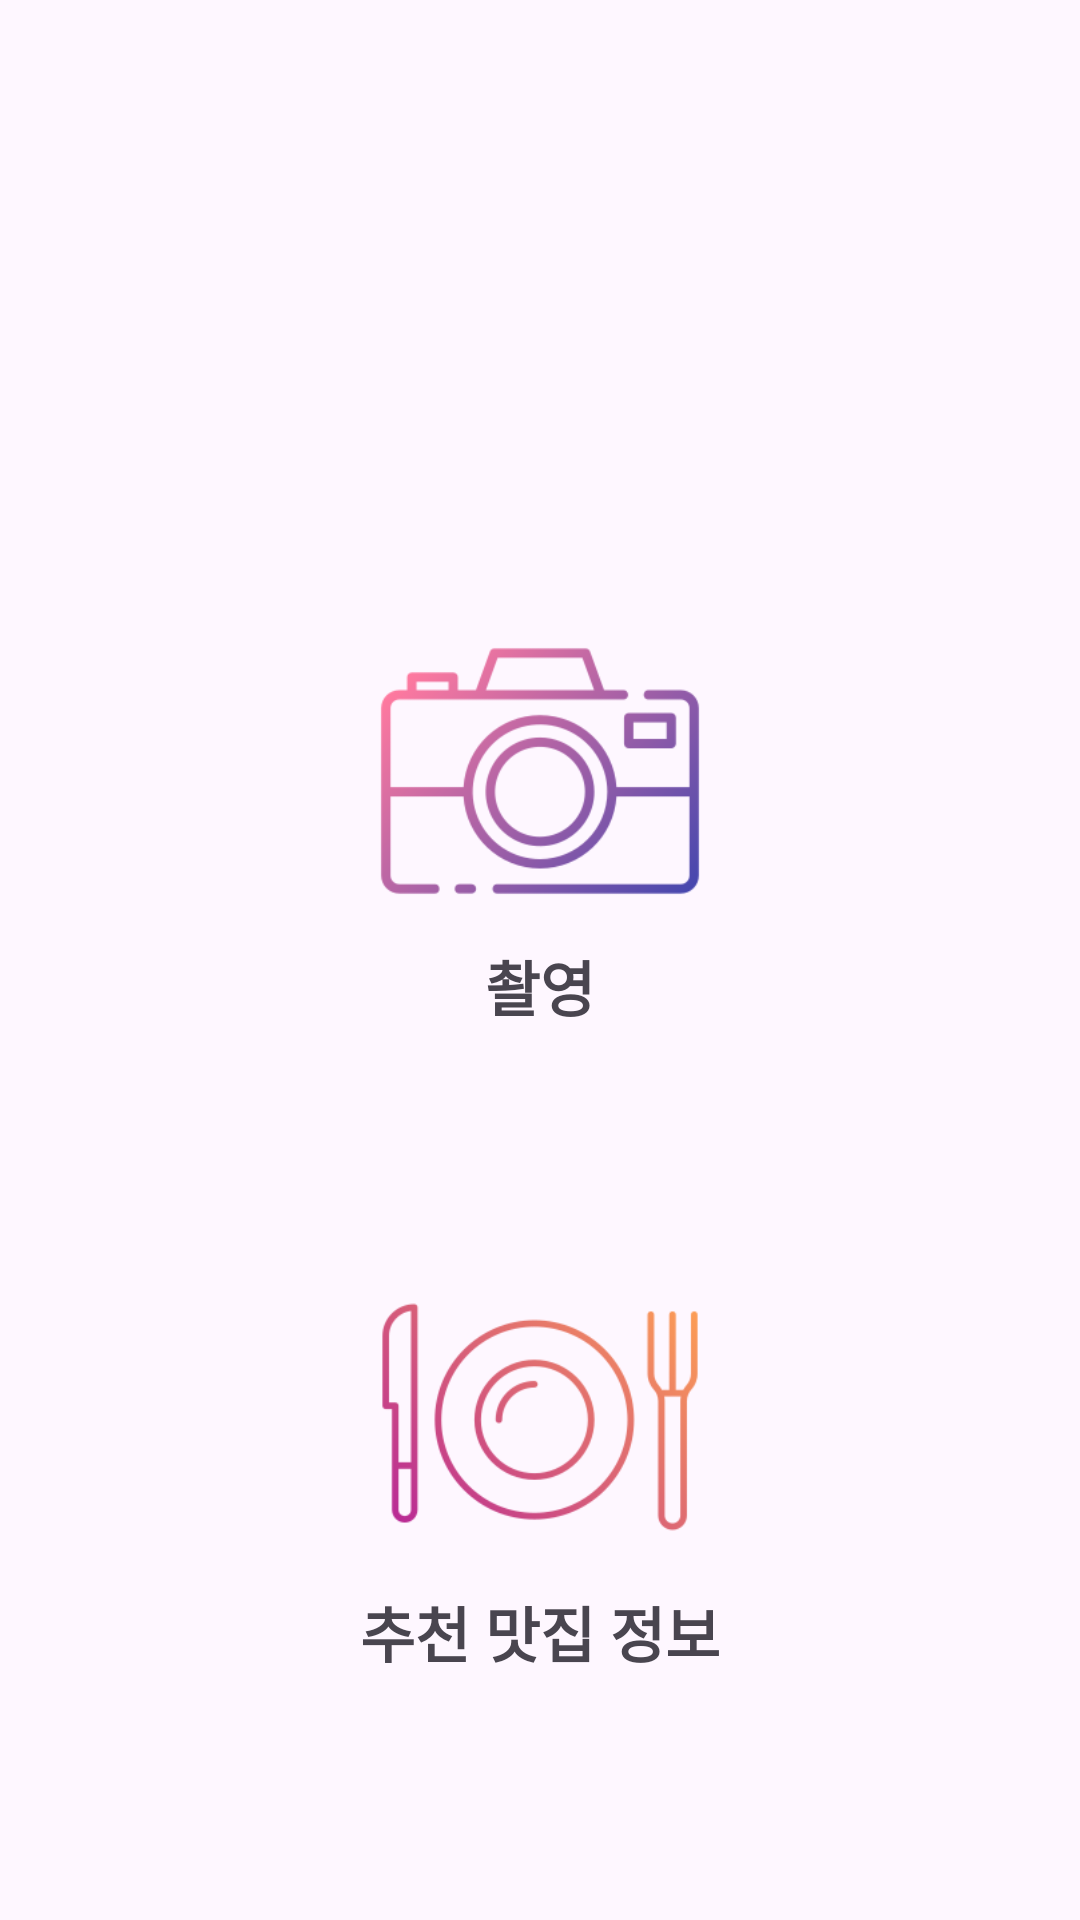

Icon click points for this 1080*1920 phone screenshot, format point (x, y):
set camera: point (540, 771)
